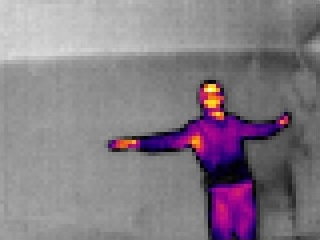human: (107, 80, 292, 240)
